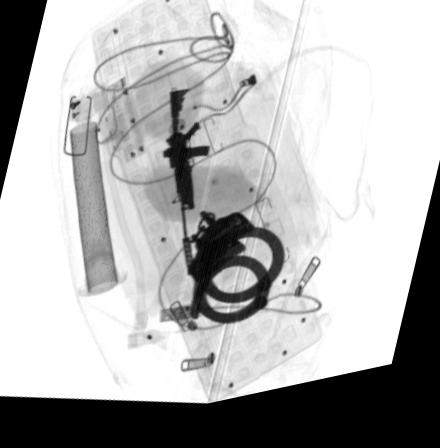Gun: (158, 95, 208, 286)
HandCuffs: (185, 218, 285, 335)
